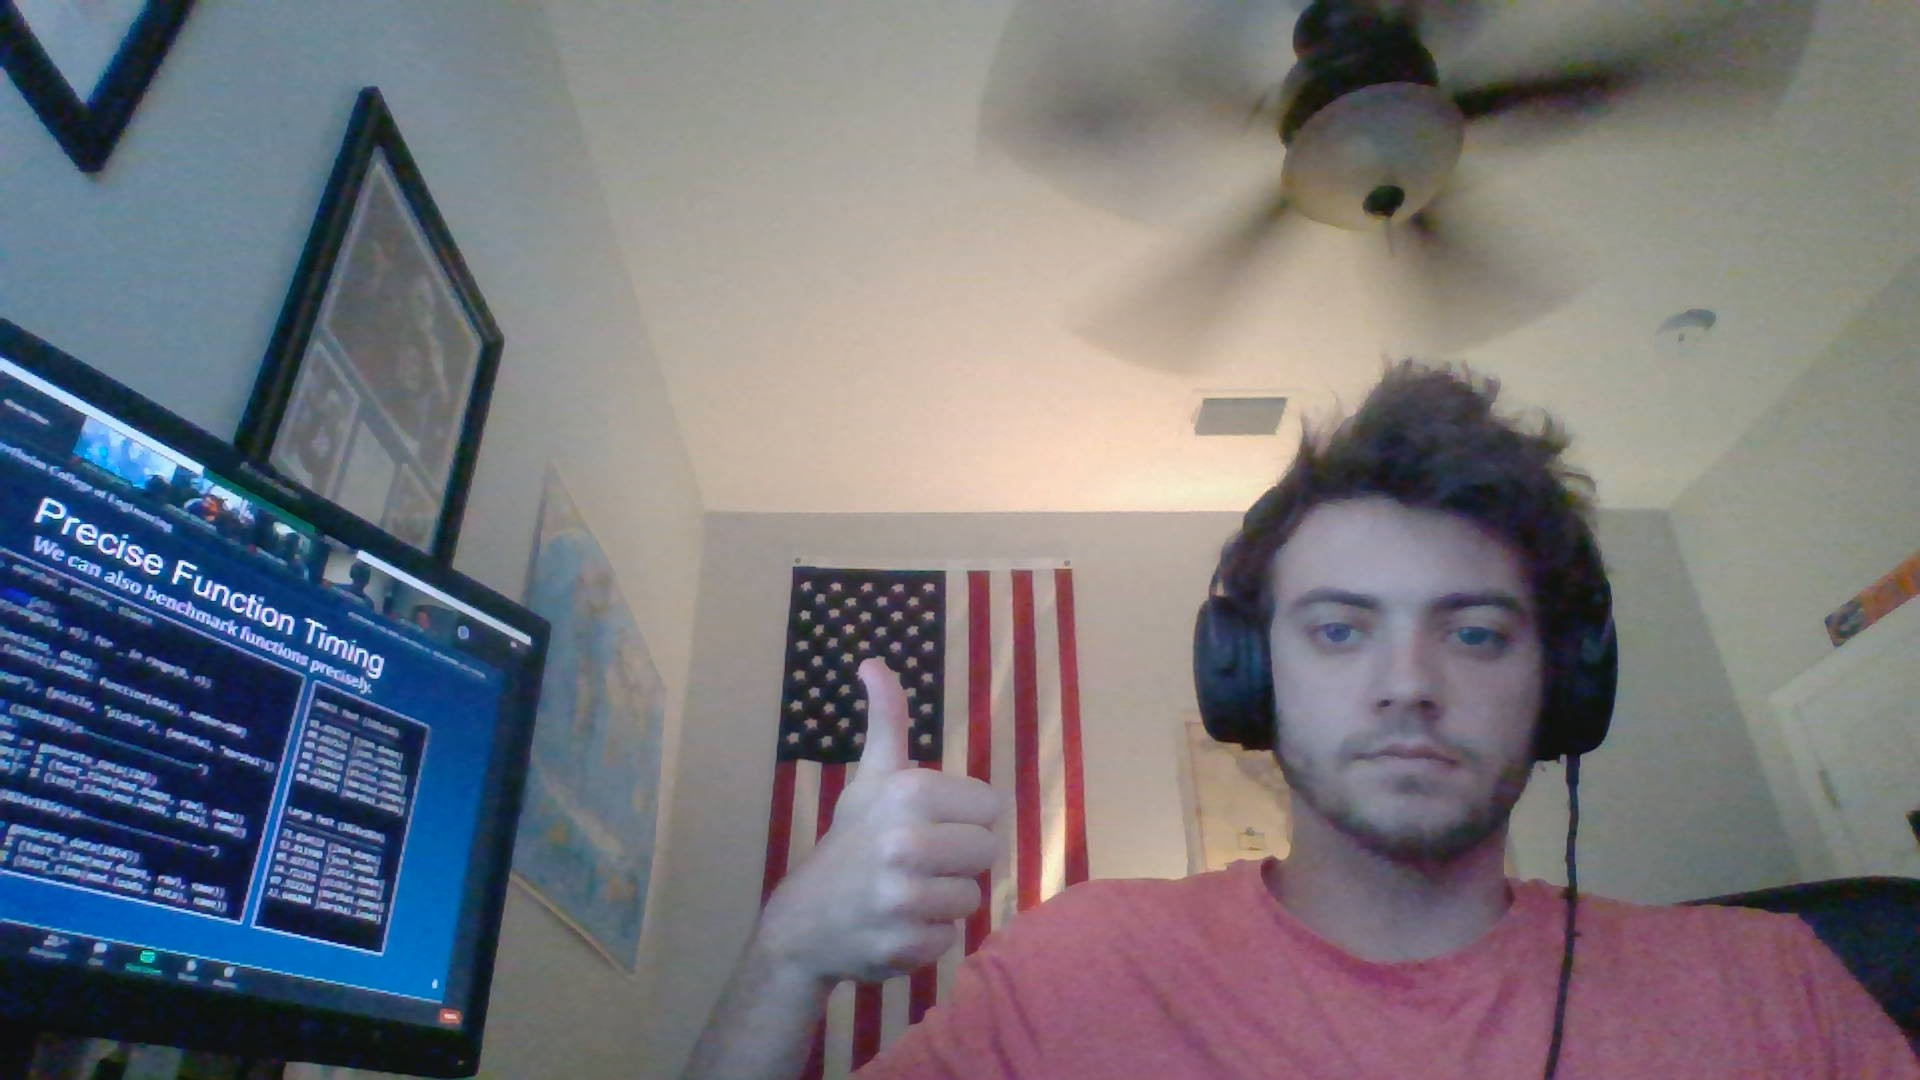Right Thumb Up: (746, 657, 1013, 986)
